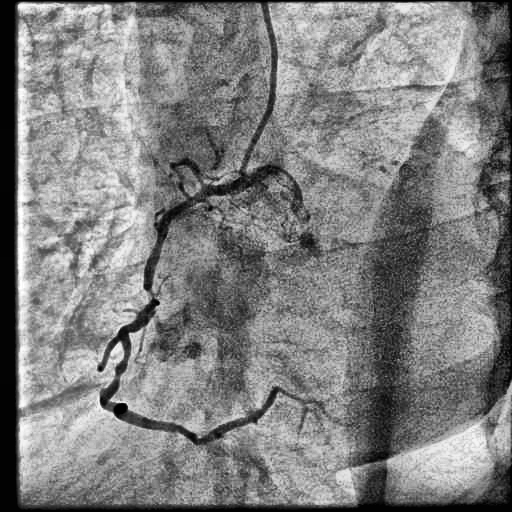rca: (100, 176, 280, 444)
